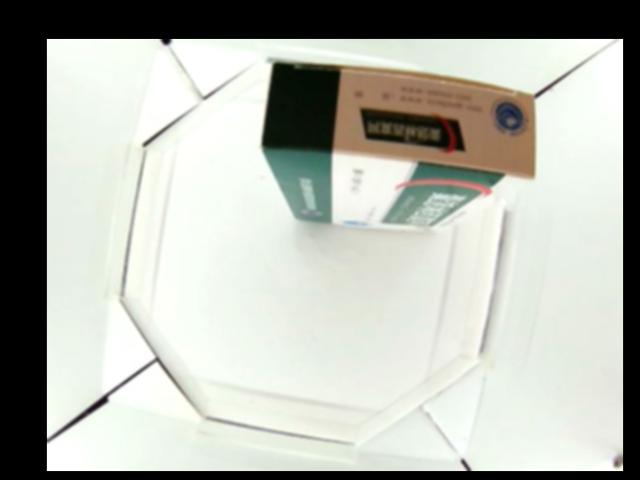Medicine: (262, 63, 536, 228)
